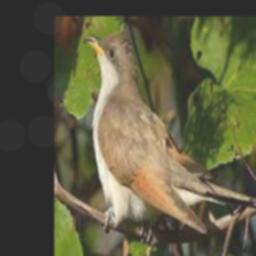Cuckoo: (83, 35, 224, 233)
